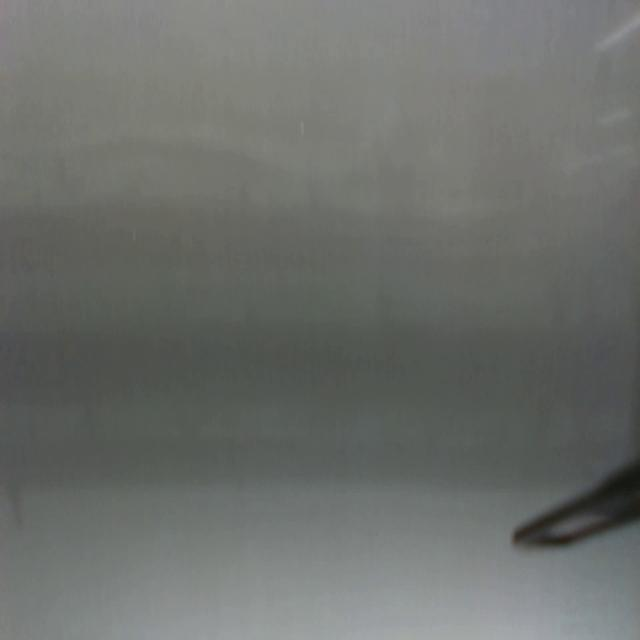color bleeding: (0, 190, 640, 484)
